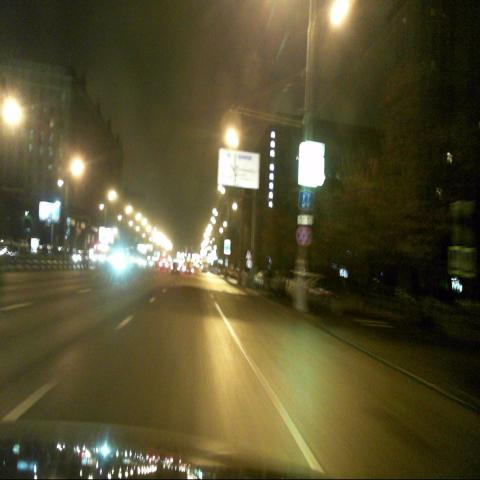3_27: (296, 226, 306, 244)
5_14: (298, 191, 309, 210)
